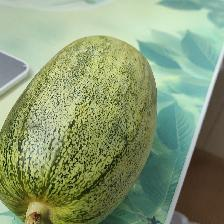gua: (27, 49, 106, 203)
